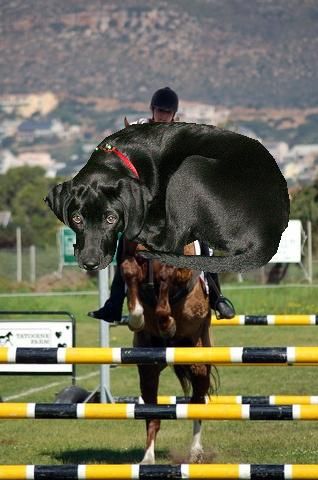tampered: (44, 123, 290, 273)
